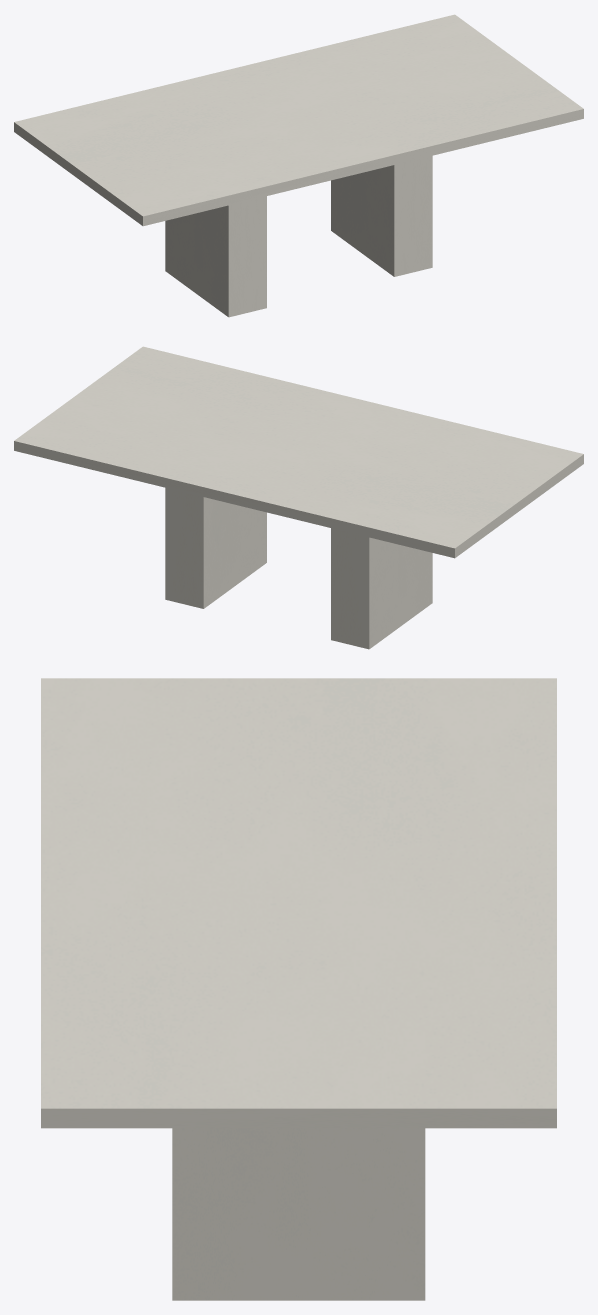
File: pale_recta_standard_ridge.glb
3 views of the same model, one above another, from view 1: azimuth 30°, elevation 25°; view 2: azimuth 150°, elevation 25°; view 3: azimuth 270°, elevation 25° (orthographic). The views are drawn at different scales.
Parts seen in each view (by area): view 1: standard_recta, ridge; view 2: standard_recta, ridge; view 3: standard_recta, ridge.
Part boxes in pixels (box(x1,y1,x2,y2)): standard_recta: box(14, 14, 583, 226); ridge: box(165, 155, 432, 317); standard_recta: box(14, 346, 583, 558); ridge: box(165, 487, 432, 649); standard_recta: box(41, 678, 556, 1128); ridge: box(172, 1128, 425, 1300).
Bounding box in the file's own units: 7.5 × 2.5 × 3.8.
Materials: 1 (1 with a texture image).
